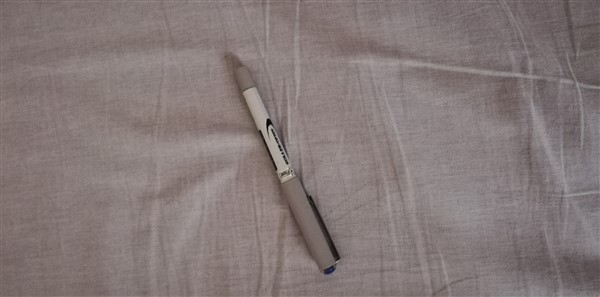pilot kalem: (231, 60, 347, 279)
